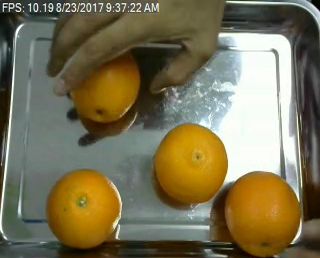Orange: (223, 169, 304, 257), (46, 168, 124, 249), (154, 122, 228, 202)
